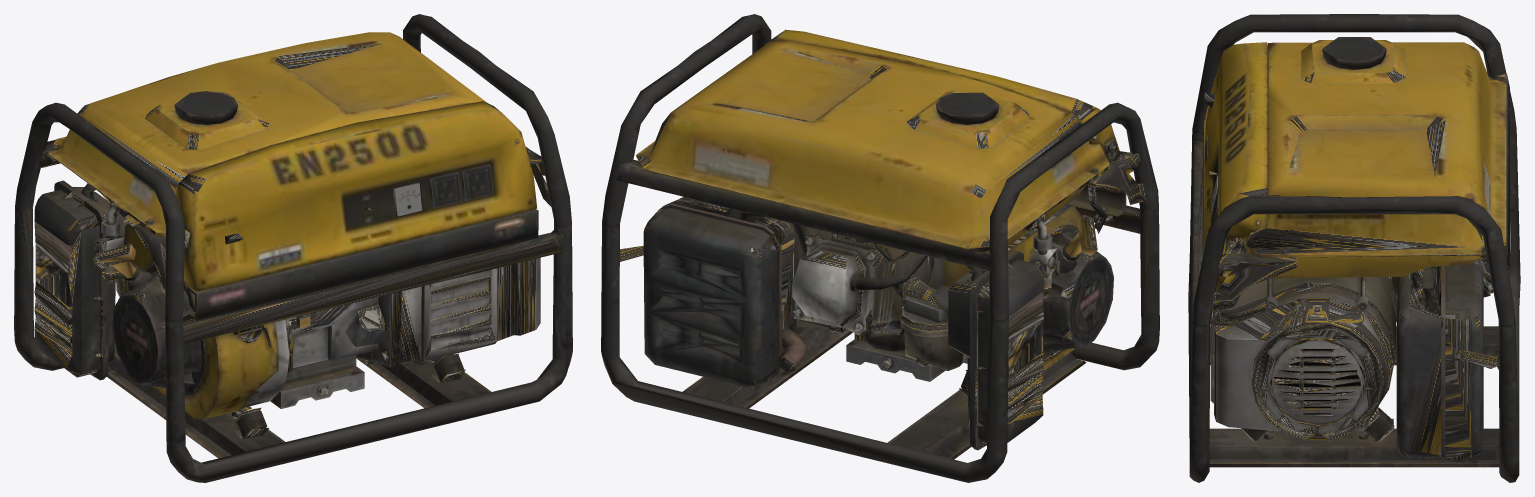
The model's file is portable_generator.glb.
The picture shows the model from 3 angles, left to right: view 1: azimuth 30°, elevation 25°; view 2: azimuth 150°, elevation 25°; view 3: azimuth 270°, elevation 25°; orthographic projection.
Parts seen in each view (by area): view 1: portable_generator; view 2: portable_generator; view 3: portable_generator.
Boxes of the visible parts, x1=… form: portable_generator: x1=14, y1=14, x2=572, y2=482; portable_generator: x1=601, y1=14, x2=1159, y2=482; portable_generator: x1=1188, y1=14, x2=1520, y2=482.
Size of the model in its own units: 0.8169 by 0.5752 by 0.564.
Materials: 2 (2 with a texture image).
